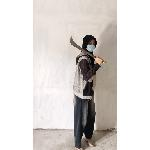Golok: (68, 32, 108, 66)
